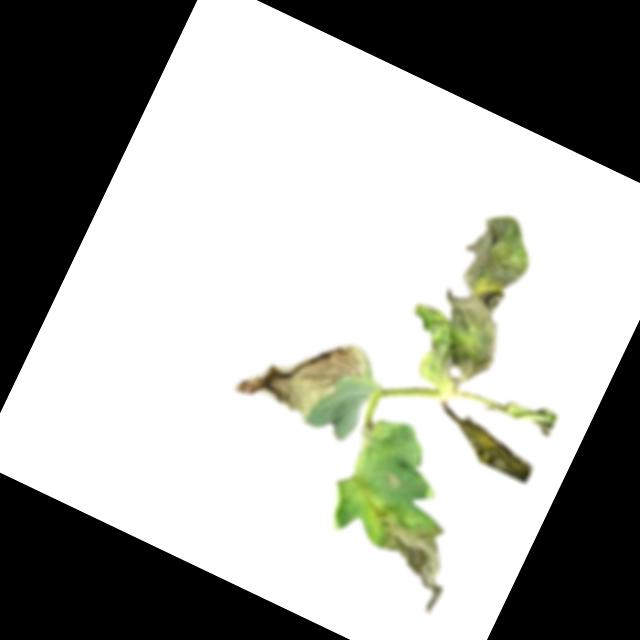Late_blight: (390, 197, 556, 403), (230, 304, 372, 437), (339, 494, 470, 619), (450, 413, 540, 482)
